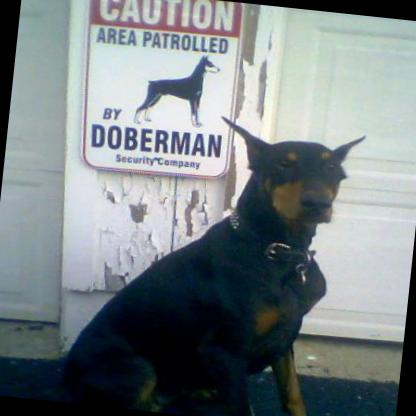Doberman: (55, 99, 362, 416)
